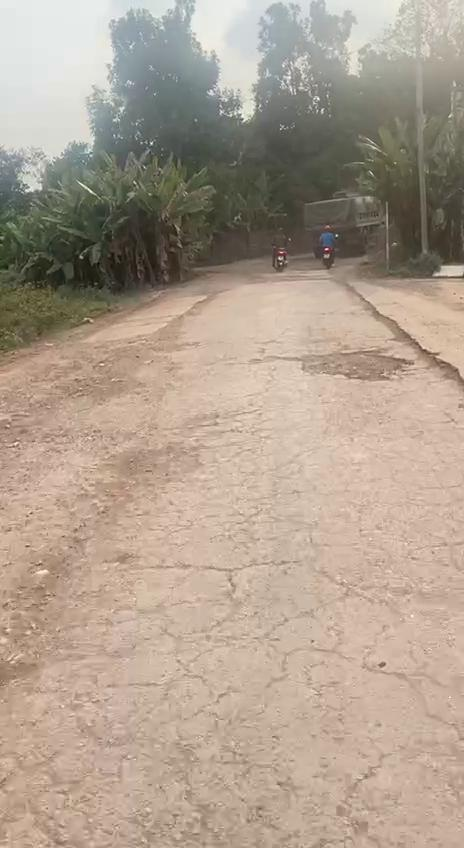pothole: (297, 350, 415, 388)
